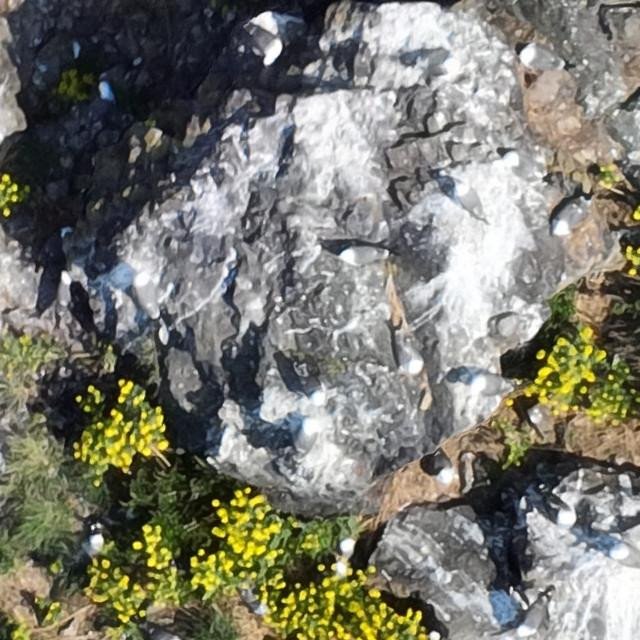umineko: (244, 20, 291, 64), (130, 272, 165, 326), (518, 590, 552, 638), (98, 61, 134, 104), (394, 335, 428, 379), (469, 373, 526, 395), (604, 538, 638, 568), (454, 183, 483, 217), (520, 46, 562, 69), (555, 203, 586, 233), (542, 500, 574, 526), (342, 245, 381, 263), (81, 532, 102, 559), (433, 453, 452, 481), (296, 424, 312, 452), (146, 628, 179, 640), (338, 538, 354, 560)
